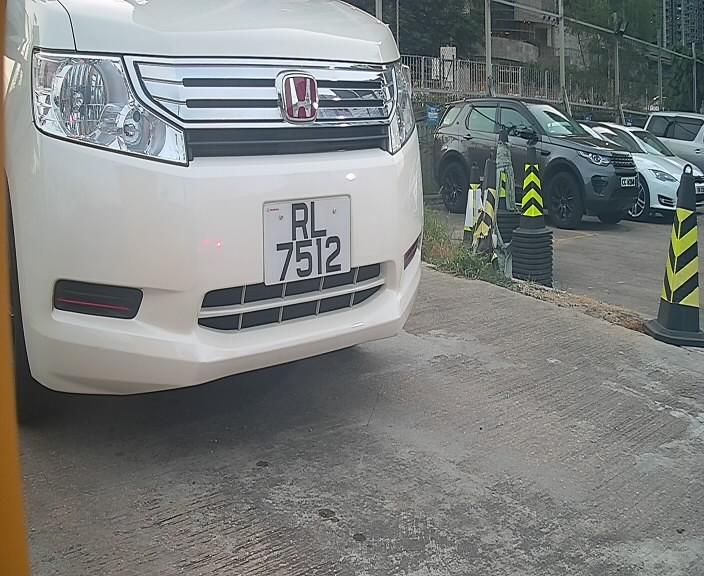License Plate: (255, 186, 359, 299)
